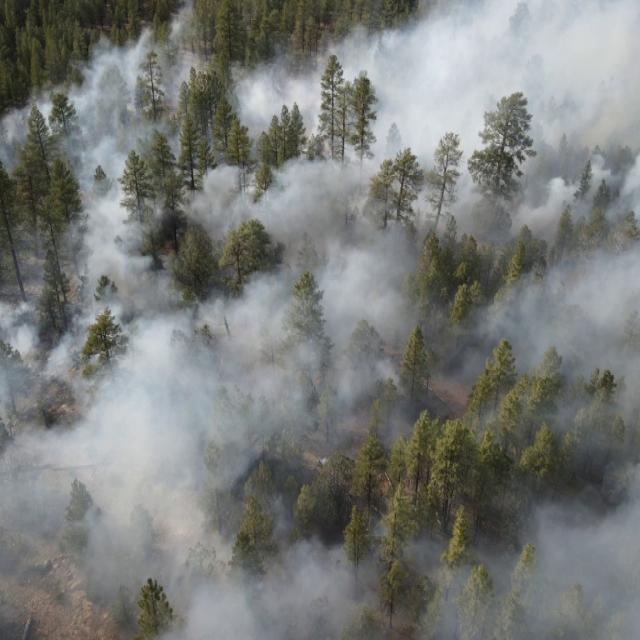smoke: (0, 100, 640, 440), (0, 440, 395, 640), (57, 0, 640, 100), (394, 506, 640, 640), (476, 435, 640, 511), (27, 76, 62, 102)
